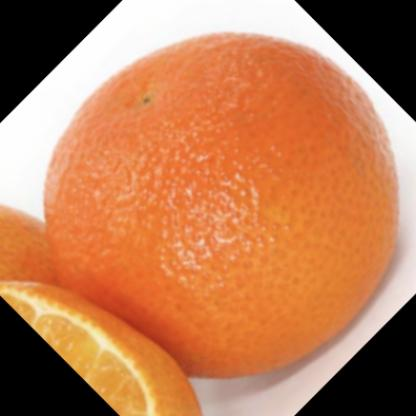fresh: (46, 35, 396, 373)
